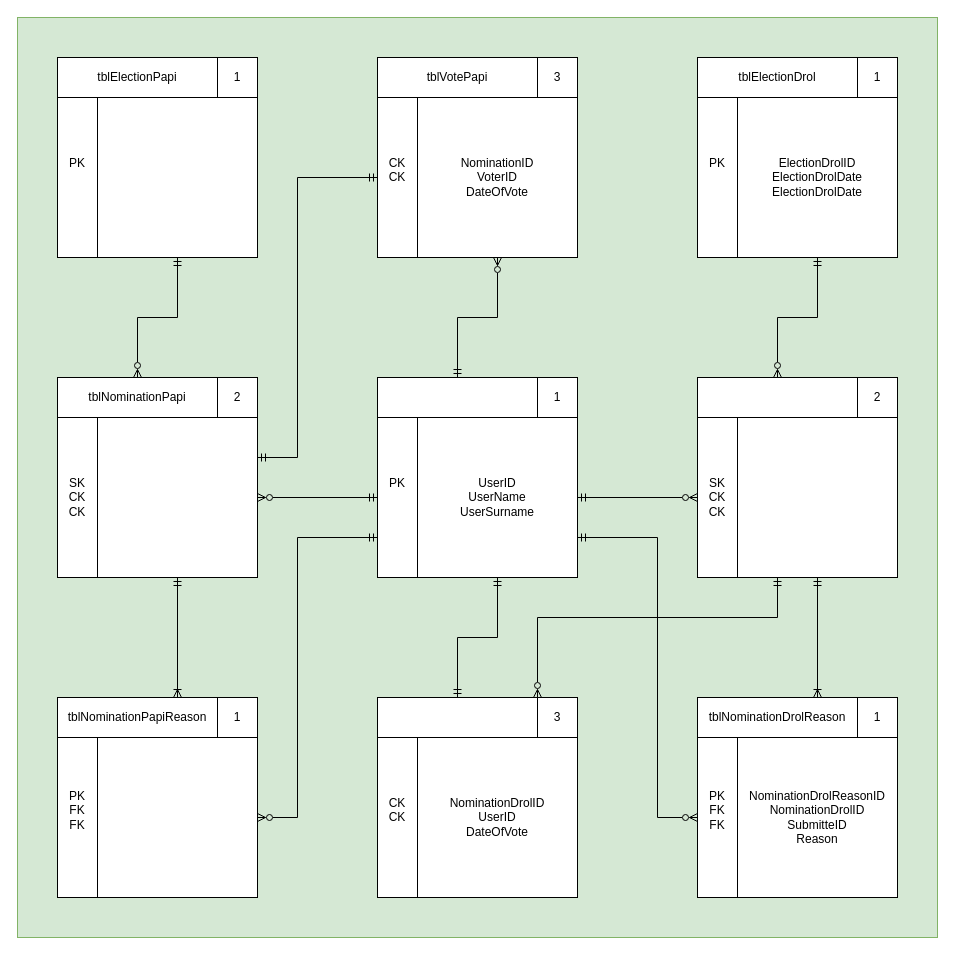
The diagram is 955 pixels wide and 955 high, and some of its shapes have lost their labels. The shapes that lost their labels are listed below. From the top down, each one's centre as x and y in pixels, then its label:
At point 177,177: "ElectionPapiID ElectionPapi Date ElectionPapiDate".
At point 457,397: "tblUsers".
At point 777,397: "tblNominationDrol".
At point 177,497: "NominationPapiID ElectionID UserNominatedID".
At point 817,497: "NominationDrolID ElectionDrolID UserNominatedID".
At point 457,717: "tblVoteDrol".
At point 177,817: "NominationPapiReasonID NominationPapiID SubmitteID Reason".
